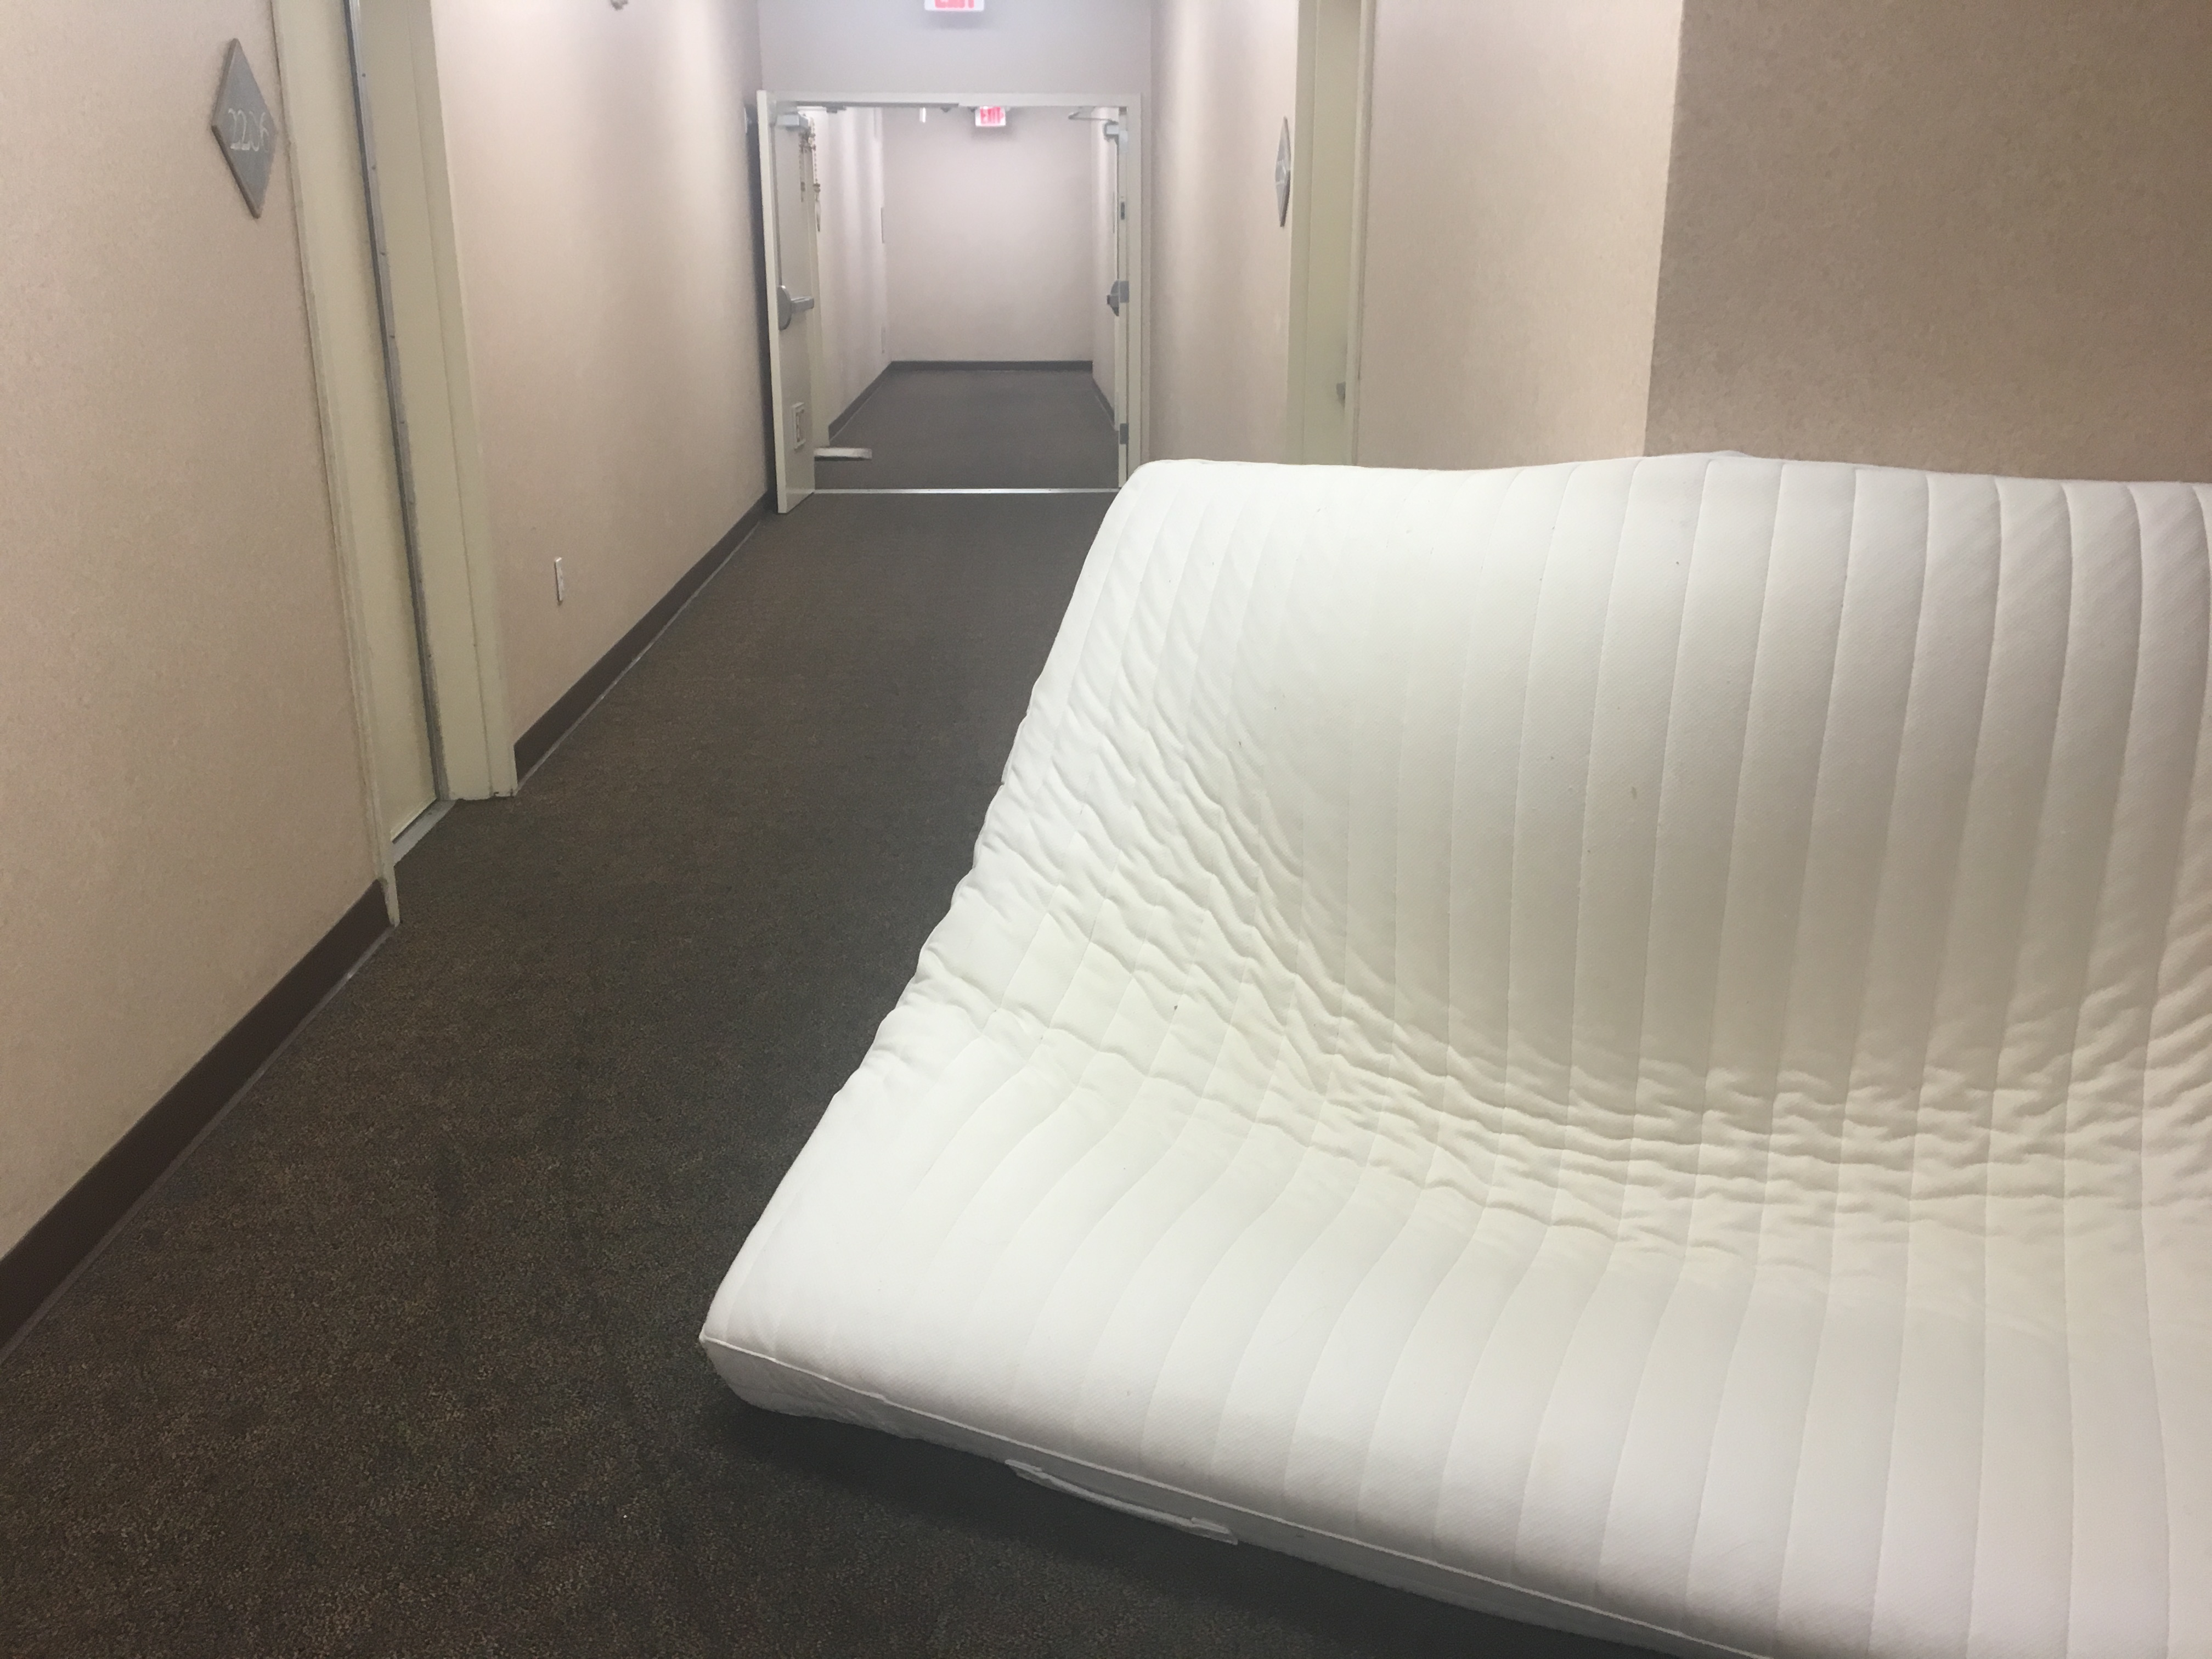Obstacle: (690, 429, 2207, 1654), (2, 5, 799, 1326), (1113, 2, 2207, 507)
